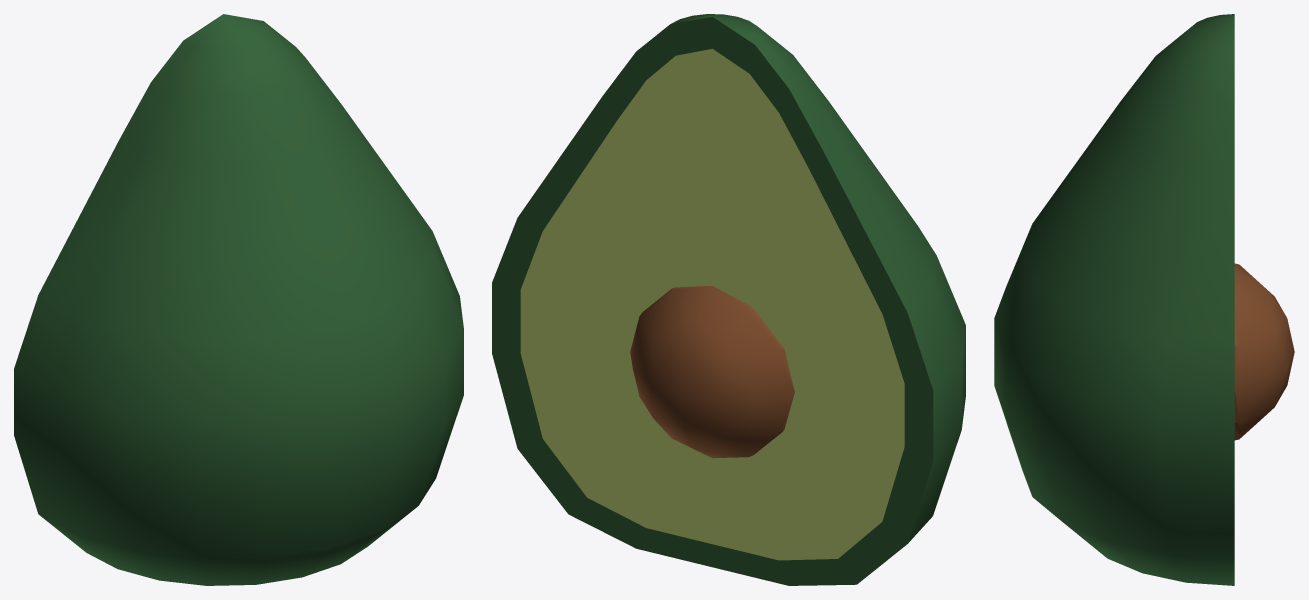
Rendered from avocado.glb.
3 renders of one model, left to right at view 1: azimuth 30°, elevation 25°; view 2: azimuth 150°, elevation 25°; view 3: azimuth 270°, elevation 25°, orthographic. The views are drawn at different scales.
Visible parts, largest first — view 1: avocado; view 2: avocado; view 3: avocado.
Boxes of the visible parts, box(x1,y1,x2,y2) form: avocado: box(14, 14, 463, 585); avocado: box(492, 14, 965, 585); avocado: box(994, 14, 1294, 585).
Size of the model in its own units: 0.0755 by 0.09 by 0.0472.
